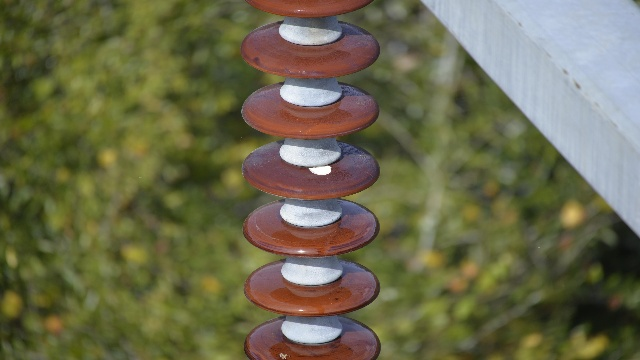broken_local: (306, 163, 335, 175)
insulator_unspecified: (241, 0, 386, 359)
